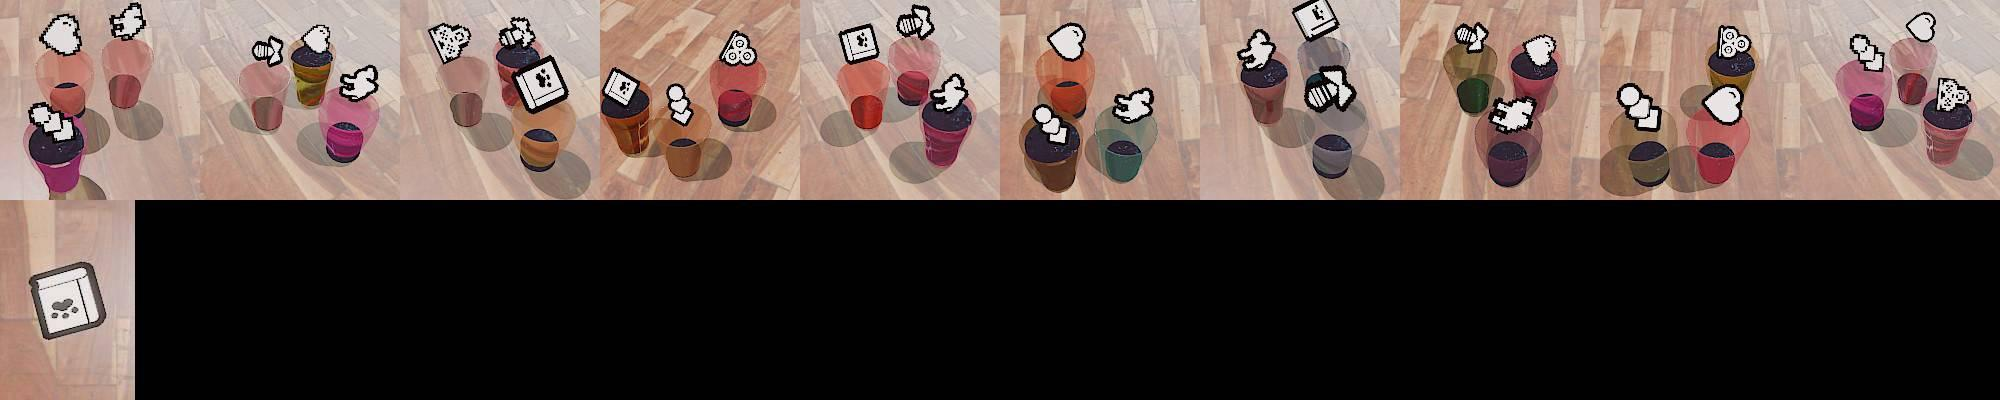icon: (28, 260, 108, 343), (511, 56, 570, 115), (1305, 64, 1357, 111), (1617, 82, 1663, 131), (27, 101, 79, 144), (427, 22, 474, 68), (1291, 0, 1339, 42), (40, 13, 84, 56), (1489, 94, 1537, 132), (838, 22, 880, 65), (1702, 84, 1745, 125), (602, 68, 642, 108), (931, 71, 971, 112), (1046, 22, 1087, 61), (1237, 28, 1276, 70), (1033, 103, 1071, 145), (1111, 87, 1154, 124), (338, 64, 379, 101), (1935, 75, 1973, 113), (108, 3, 147, 41), (1849, 32, 1886, 71), (718, 29, 758, 66), (897, 3, 934, 39), (497, 17, 537, 50), (1716, 24, 1751, 60), (296, 23, 332, 59), (1520, 33, 1557, 68), (666, 83, 695, 126), (1454, 20, 1490, 55), (250, 36, 286, 68), (1904, 11, 1935, 42)
